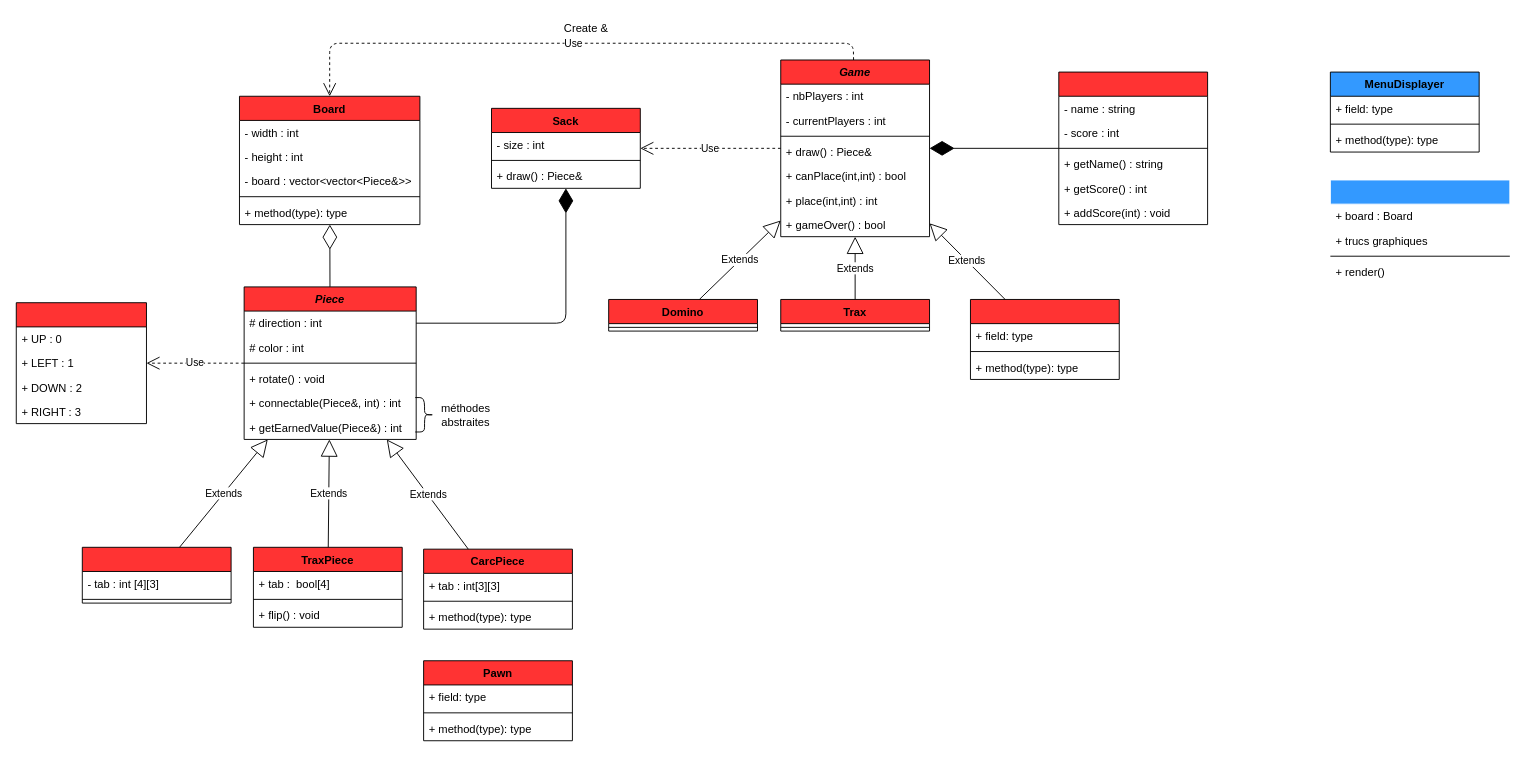
The diagram is 1526 pixels wide and 759 high, and some of its shapes have lost their labels. The shapes that lost their labels are listed below. From the top down, each one's box as (x1, y1, x2, y2) in pixels, then its label:
(1058, 71, 1208, 225): Player
(1329, 179, 1510, 284): BoardDisplayer
(970, 299, 1119, 379): Carcassonne
(15, 302, 146, 424): enum Direction
(81, 546, 231, 603): DomPiece
